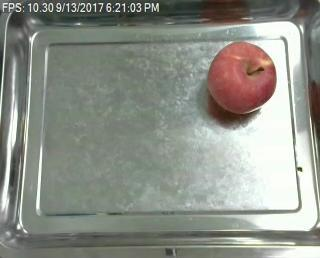apple: (206, 40, 278, 115)
